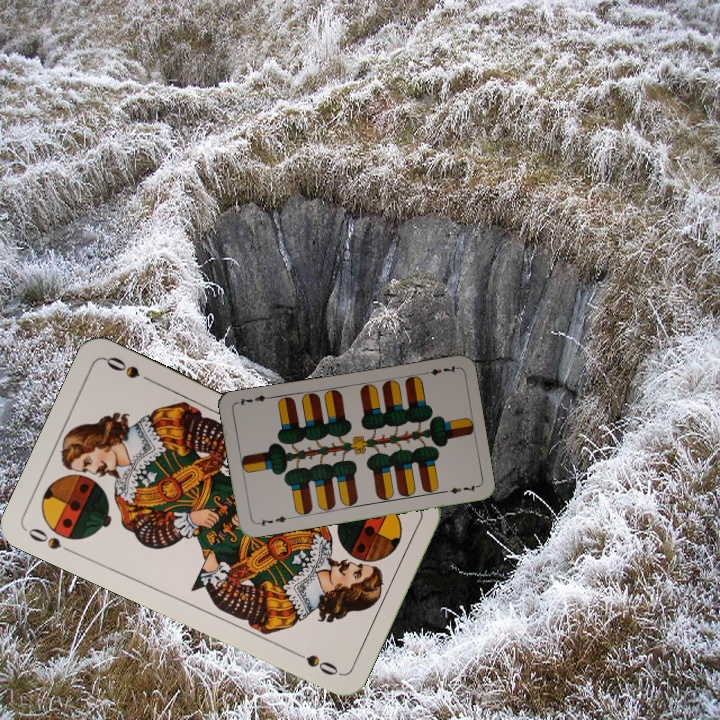E7: (253, 512, 293, 529), (419, 361, 459, 378)
SO: (24, 523, 78, 557)
